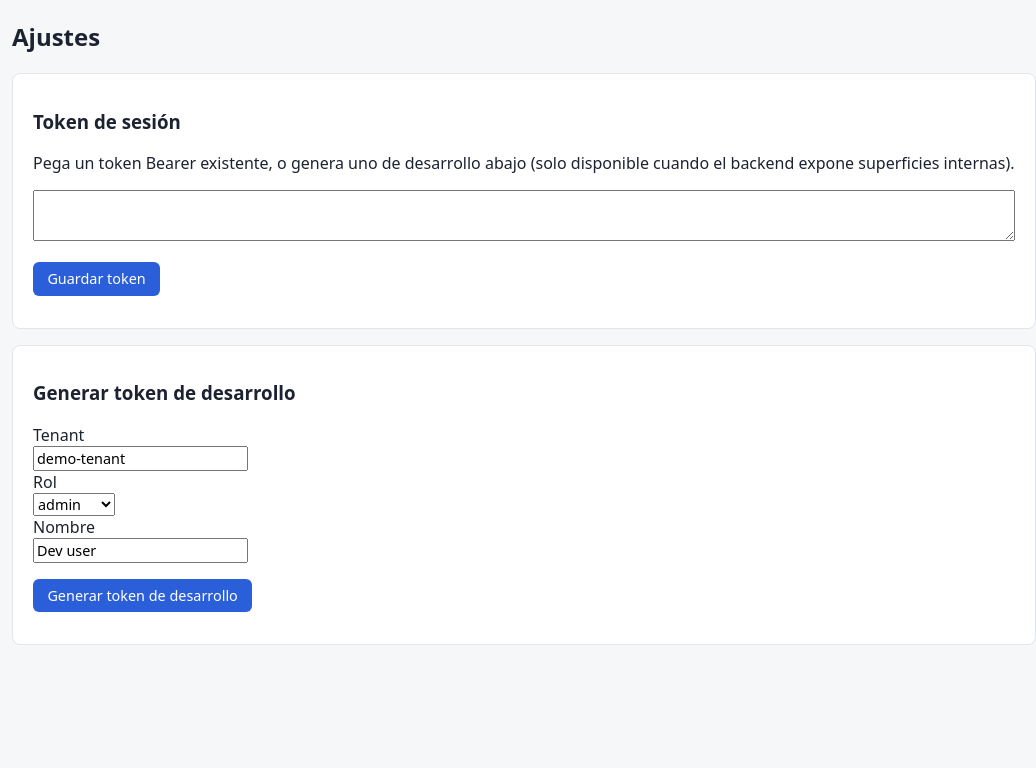
Test case: Settings › stores the generated token on success
This screenshot has width=1036, height=768.
Click the button "Generar token de desarrollo".
click(143, 596)  # box [33, 579, 252, 612]
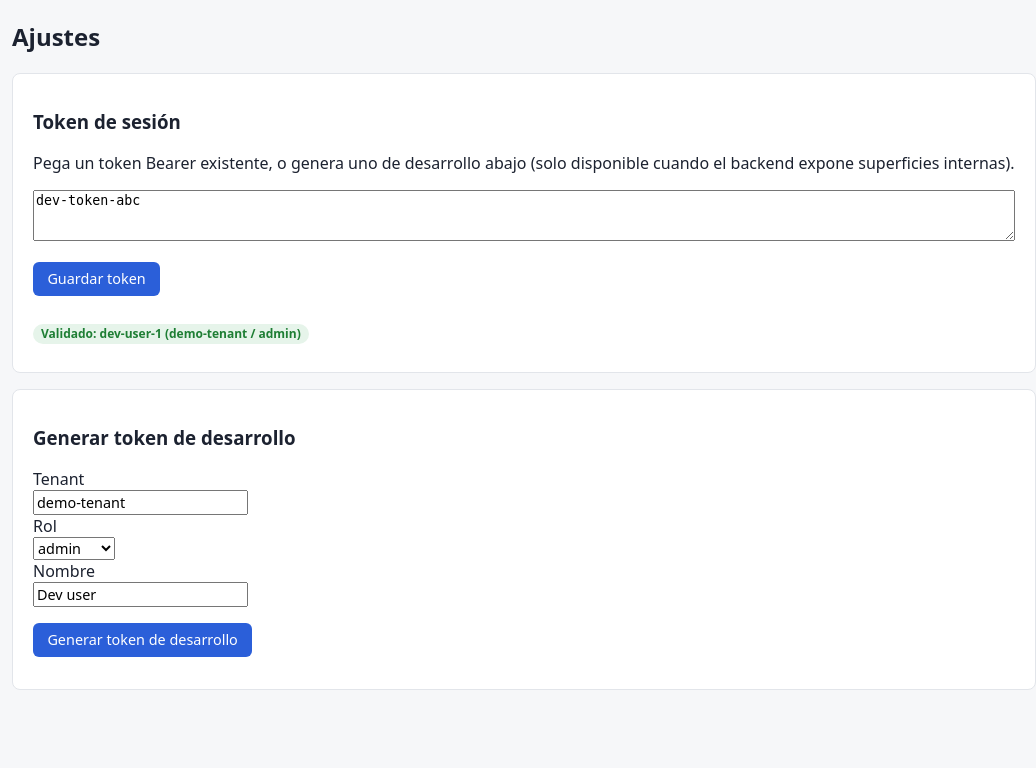
Result: the text "Validado: dev-user-1 (demo-tenant / admin)" is shown at [33, 324, 309, 344]
